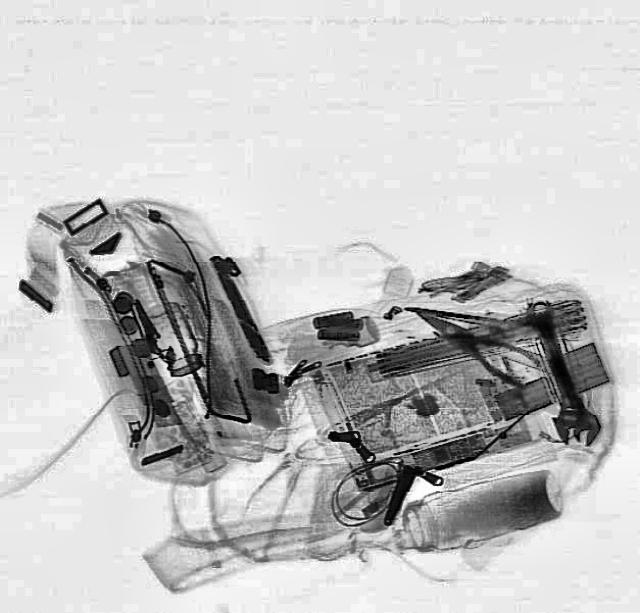Pliers: (404, 296, 544, 390)
Wrench: (514, 294, 606, 451)
